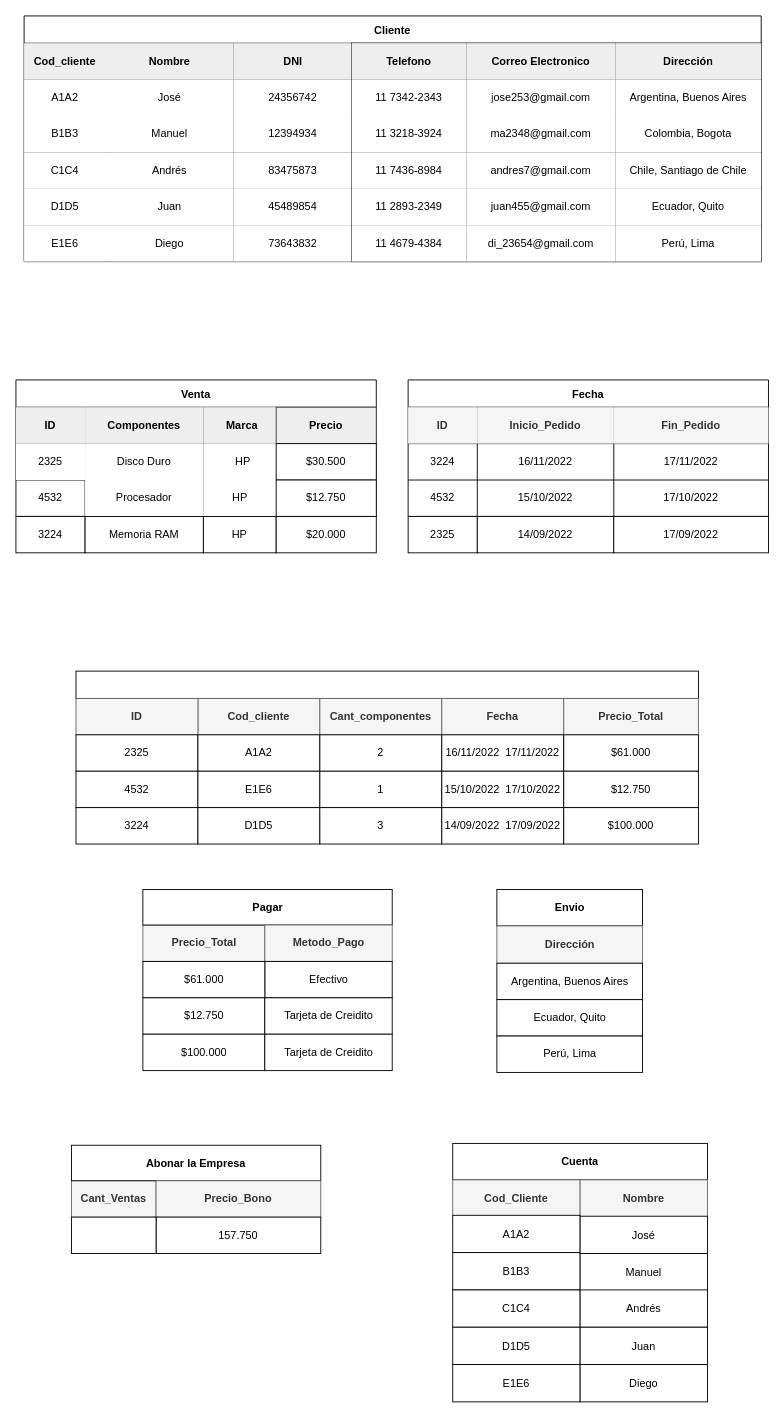
Image size: 784x1418. Some labels were removed from this diagram. The centre of each missing label's shape, as x and y in pixels:
Factura: the point at 386,684
X6: the point at 113,1235
